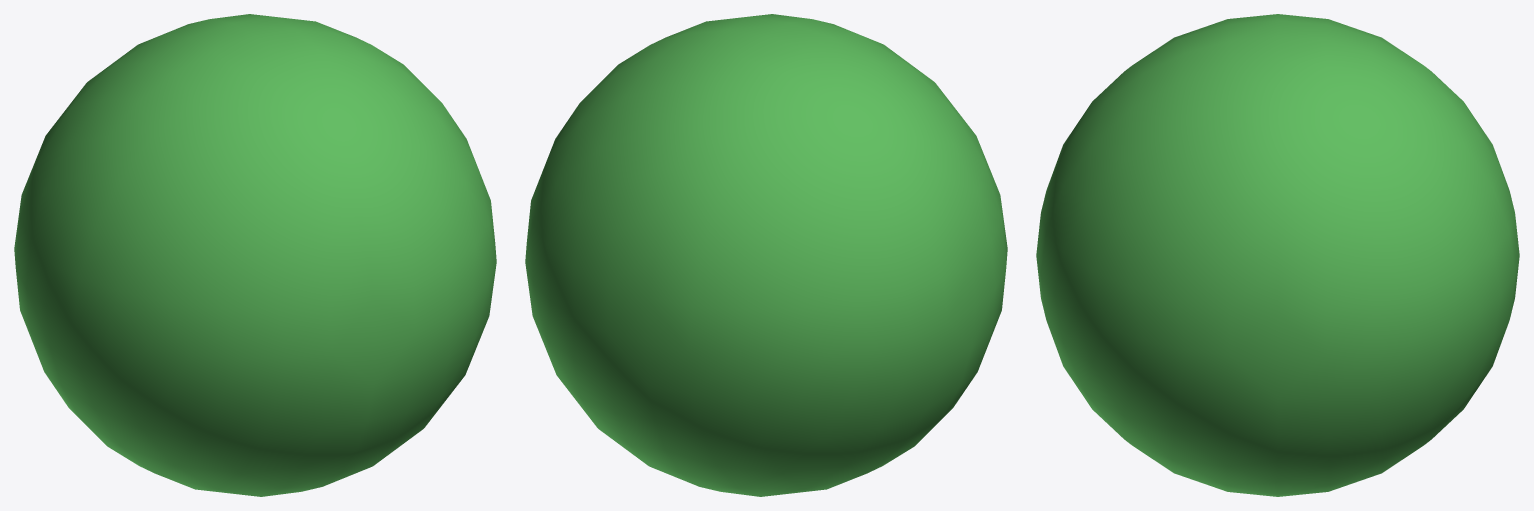
The model's file is expected.gltf.
3 renders of one model, left to right at view 1: azimuth 30°, elevation 25°; view 2: azimuth 150°, elevation 25°; view 3: azimuth 270°, elevation 25°, orthographic.
Bounding box in the file's own units: 24 × 24 × 24.
